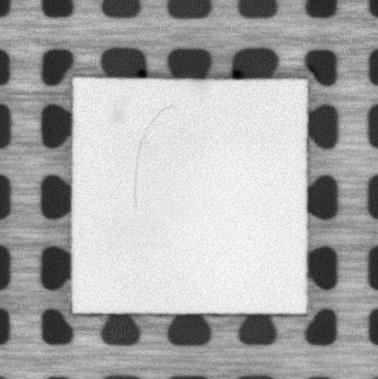DIE_CRACK: (129, 100, 177, 210)
